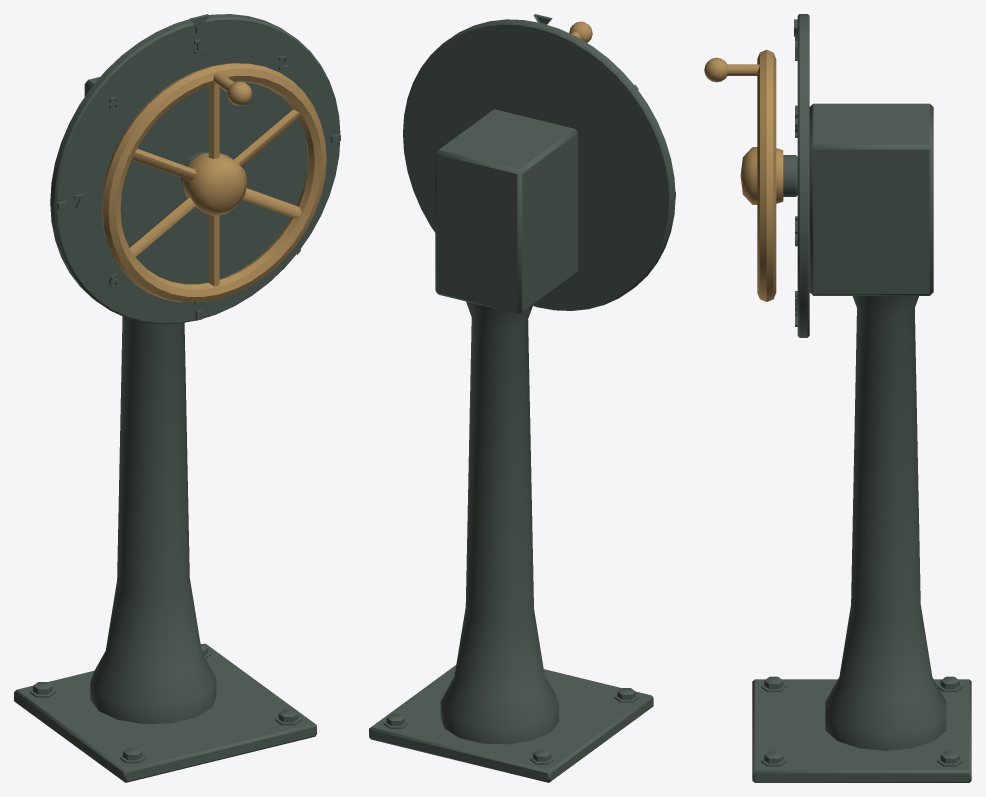
The model's file is handwheel.glb.
The picture shows the model from 3 angles, left to right: view 1: azimuth 30°, elevation 25°; view 2: azimuth 150°, elevation 25°; view 3: azimuth 270°, elevation 25°; orthographic projection. The views are drawn at different scales.
Visible parts, largest first — view 1: handwheel_base, IA_handwheel; view 2: handwheel_base; view 3: handwheel_base, IA_handwheel.
Part boxes in pixels (box(x1,y1,x2,y2)): handwheel_base: box(14, 14, 340, 782); IA_handwheel: box(101, 63, 326, 302); handwheel_base: box(369, 14, 675, 782); handwheel_base: box(752, 14, 971, 782); IA_handwheel: box(704, 49, 783, 301).
Size of the model in its own units: 0.68 by 1.65 by 0.561.
